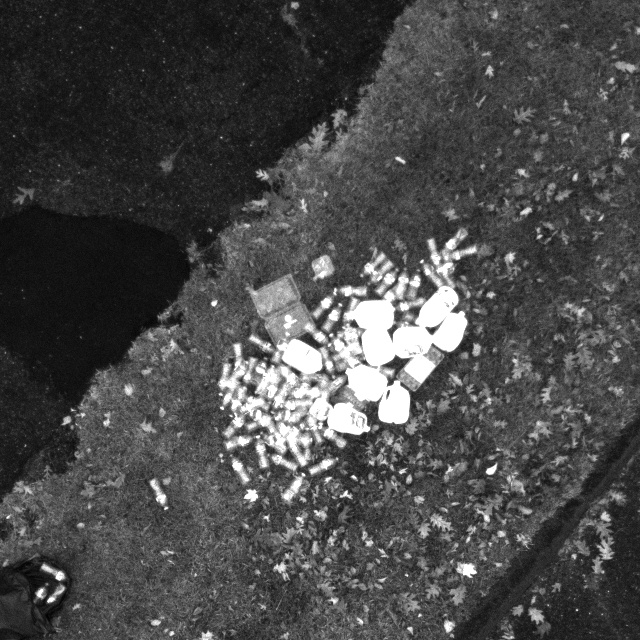bottle: (327, 330, 359, 366), (373, 265, 402, 298), (303, 318, 334, 348), (356, 250, 389, 278), (364, 259, 396, 287), (281, 471, 309, 503), (320, 300, 346, 334), (418, 257, 447, 287), (309, 291, 339, 320), (221, 433, 261, 454), (148, 476, 172, 511), (253, 363, 277, 397), (229, 452, 253, 486), (285, 434, 309, 468), (270, 381, 294, 415), (318, 343, 340, 380), (442, 225, 471, 253), (222, 409, 248, 440), (264, 450, 301, 471), (225, 359, 250, 390), (317, 423, 349, 447), (244, 411, 277, 434), (269, 333, 291, 367), (434, 259, 458, 290), (253, 431, 272, 470), (447, 240, 479, 263), (424, 235, 445, 270), (215, 360, 234, 398), (391, 295, 427, 315), (307, 455, 341, 476), (245, 410, 276, 433), (392, 264, 411, 301), (303, 413, 325, 444), (38, 562, 70, 583), (258, 430, 288, 452), (45, 581, 69, 608), (247, 333, 279, 353), (218, 382, 239, 412), (321, 375, 348, 398), (304, 413, 324, 444), (343, 324, 362, 356), (250, 355, 269, 386), (406, 267, 423, 301), (437, 248, 459, 274), (331, 283, 369, 298), (239, 395, 269, 414), (32, 581, 52, 606), (231, 341, 246, 374), (283, 397, 315, 411), (368, 362, 397, 377), (392, 317, 418, 330)
can: (413, 284, 460, 329), (343, 298, 398, 333), (277, 338, 325, 376), (375, 379, 412, 427), (430, 309, 468, 355), (344, 365, 388, 404), (392, 323, 438, 360), (329, 401, 372, 438), (361, 328, 395, 365)
container: (249, 271, 317, 346), (396, 341, 445, 393), (337, 386, 369, 413), (309, 254, 336, 280), (310, 398, 332, 421)
